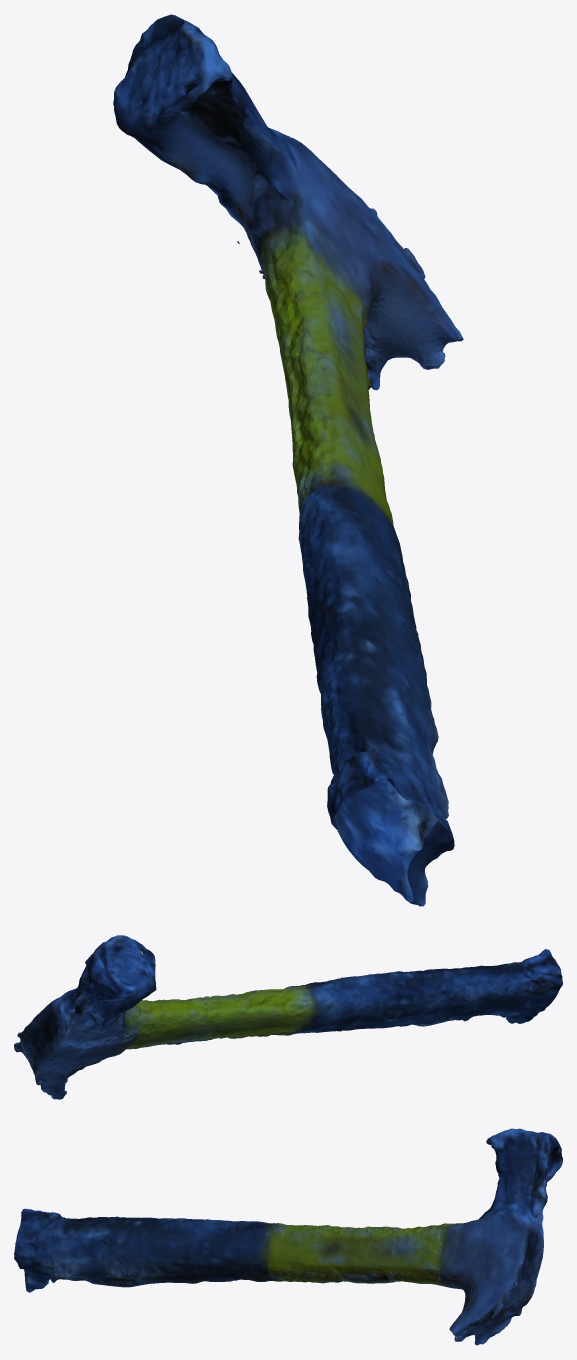
Rendered from 20kscan.fbx.
The picture shows the model from 3 angles, top to bottom: view 1: azimuth 30°, elevation 25°; view 2: azimuth 150°, elevation 25°; view 3: azimuth 270°, elevation 25°; orthographic projection. The views are drawn at different scales.
Visible parts, largest first — view 1: Model; view 2: Model; view 3: Model.
Boxes of the visible parts, <box> form: Model: <box>113,14,463,906</box>; Model: <box>14,935,562,1099</box>; Model: <box>14,1128,562,1345</box>.
Size of the model in its own units: 2.73 by 4.72 by 2.15.
